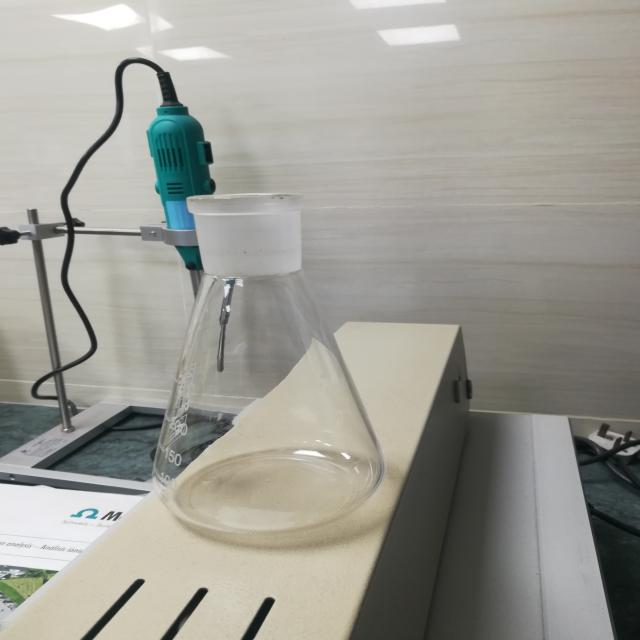Conical_Flask: (28, 144, 446, 565)
